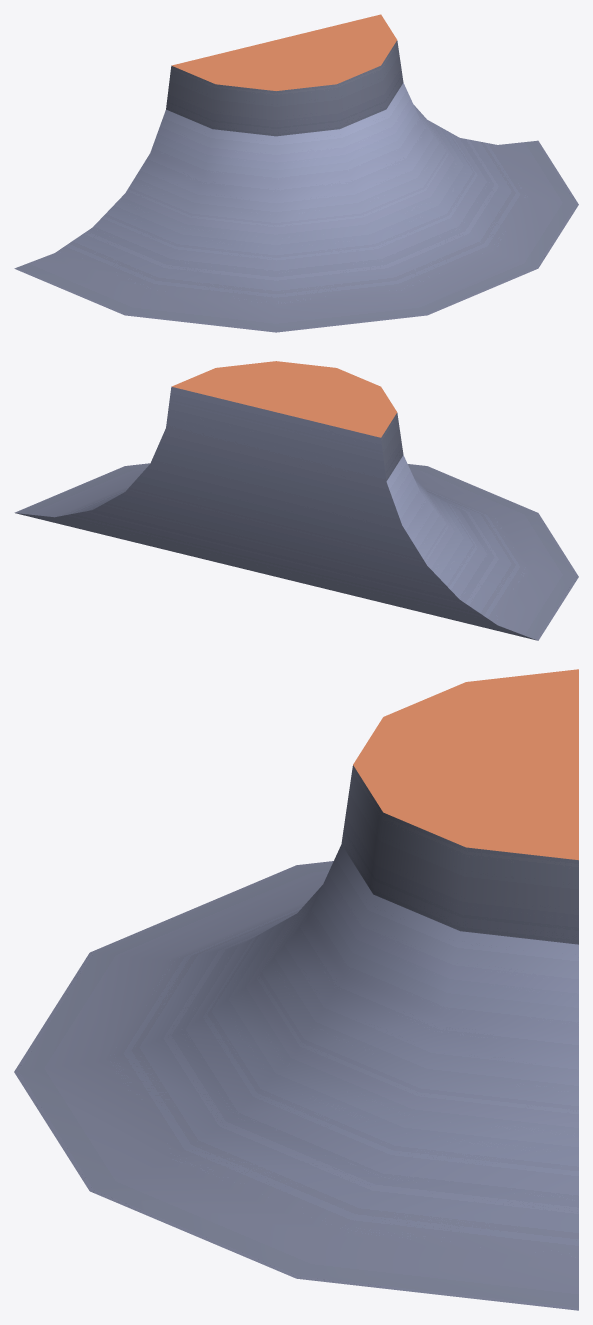
Rendered from obstacle_end.glb.
3 renders of one model, top to bottom at view 1: azimuth 30°, elevation 25°; view 2: azimuth 150°, elevation 25°; view 3: azimuth 270°, elevation 25°, orthographic. The views are drawn at different scales.
Visible parts, largest first — view 1: obstacle-end; view 2: obstacle-end; view 3: obstacle-end.
Boxes of the visible parts, x1,y1,x2,y2 form: obstacle-end: (14,14,578,332); obstacle-end: (14,361,578,640); obstacle-end: (14,669,578,1310).
Bounding box in the file's own units: 1 × 0.3 × 0.5.
Materials: 1 (1 with a texture image).
